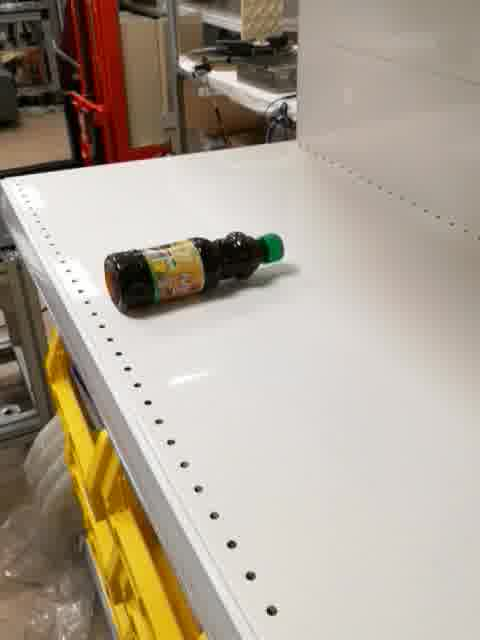cookingoil: (100, 231, 287, 317)
